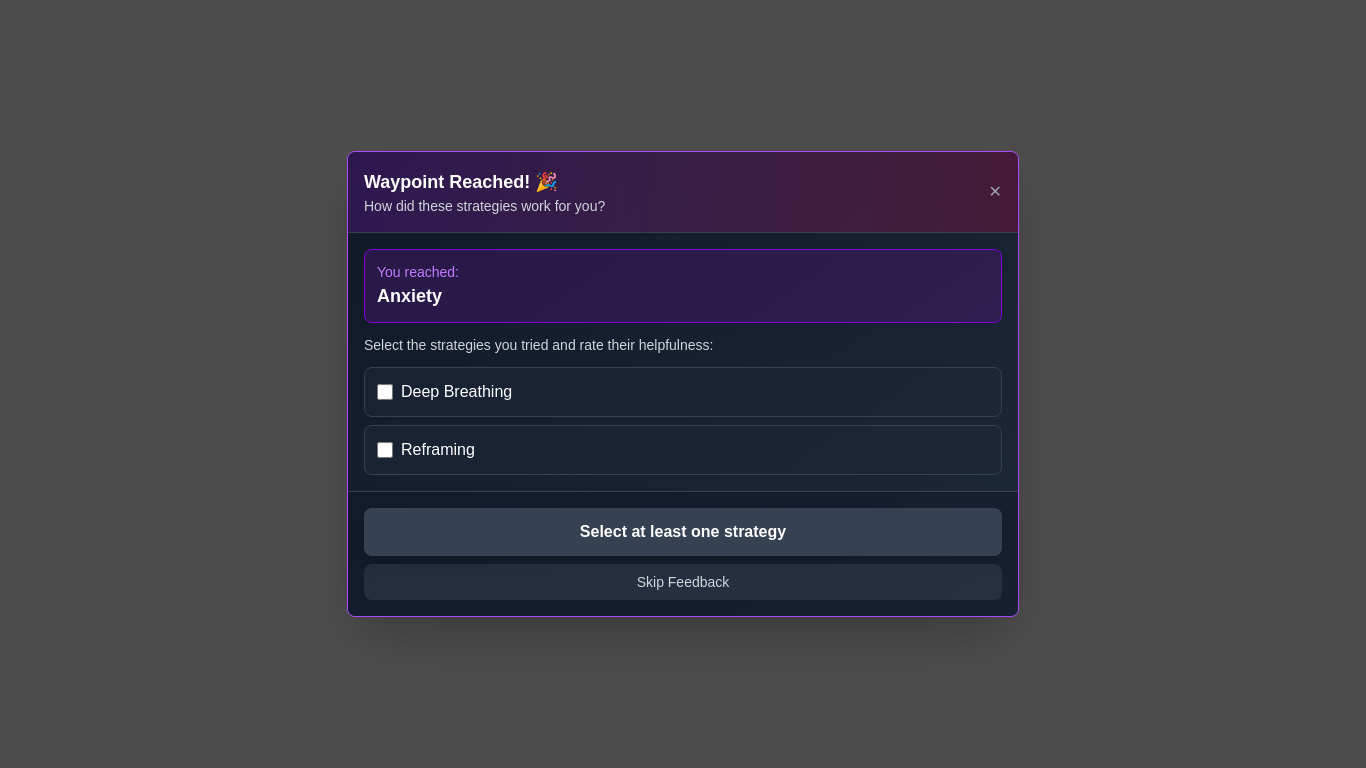
Test: StrategyFeedbackModal › toggles strategy expansion on selection
Expected: the text "How helpful was this?" is not shown
// Select first strategy
Click the text "Deep Breathing": [457, 392] box [401,380,512,404]
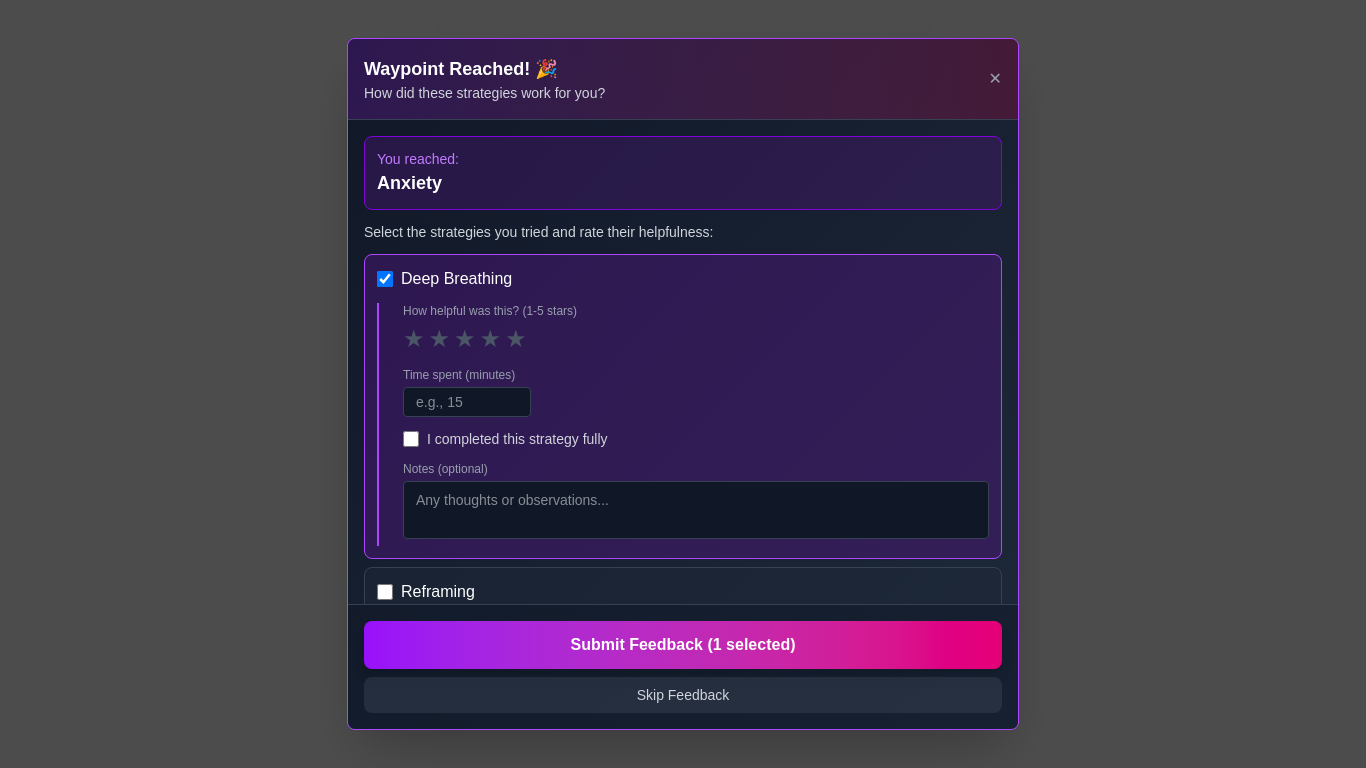
Now the text "How helpful was this? (1-5 stars)" is shown, box [403,304,577,318]
Now the text "Time spent (minutes)" is shown, box [403,368,515,382]
